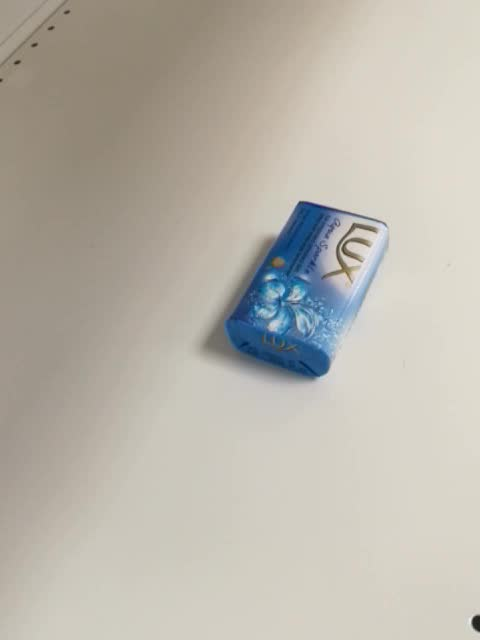soap: (224, 200, 390, 380)
